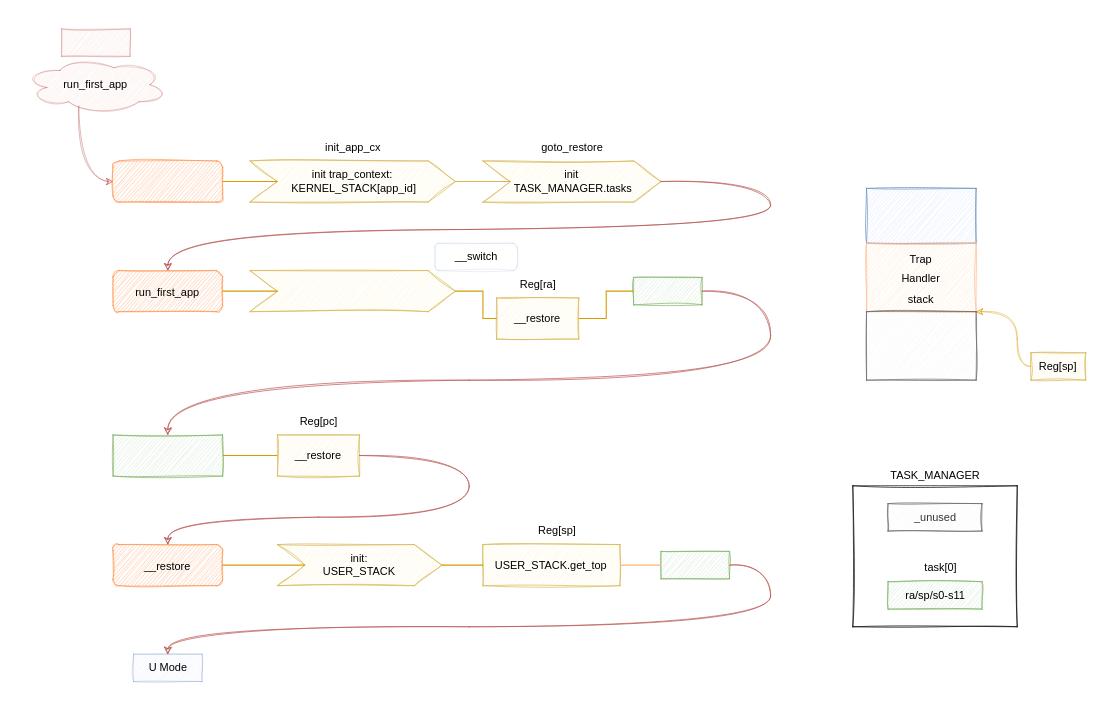
Image size: 1110x706. Some labels were removed from this diagram. Each missing label, with the centre of its shape:
"lazy_static! TASK_MANAGER" goes at (x=167, y=181).
"ra->pc" goes at (x=167, y=455).
"ret" goes at (x=667, y=290).
"S Mode" goes at (x=95, y=42).
"sret" goes at (x=694, y=564).
"switch: unused_cx, task_zero" goes at (x=352, y=290).
"Trap Context" goes at (x=921, y=215).
